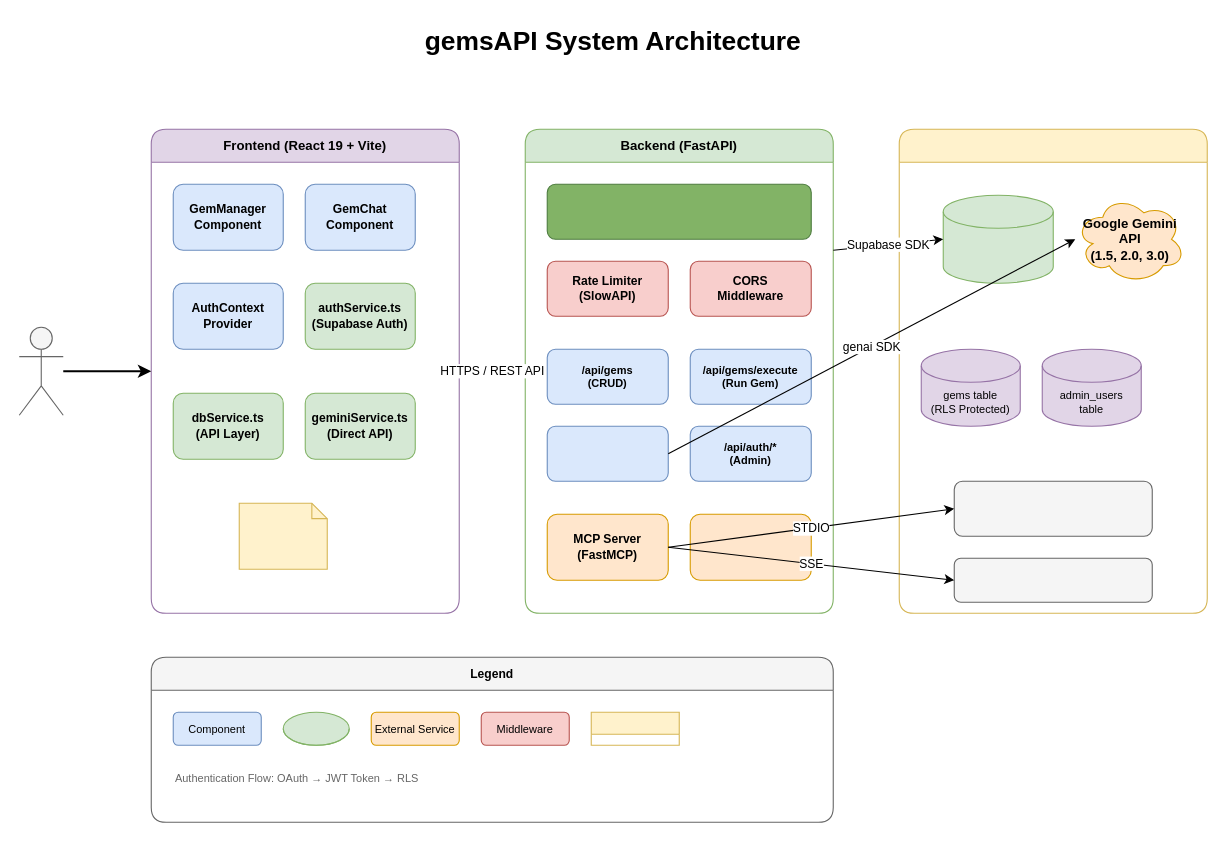
This 1227x842 diagram has some shape labels left out. Each missing label, with the box of its shape:
/api/gemini/generate (Free-form): (546, 425, 668, 481)
Claude Desktop (MCP Client): (953, 480, 1152, 536)
Cursor / IDE (MCP SSE): (953, 557, 1152, 602)
External Services: (898, 128, 1207, 613)
FastAPI Server (Python): (546, 183, 811, 239)
LocalStorage (Demo Mode): (238, 502, 327, 569)
MCP Tools gems.list/get/search: (689, 513, 811, 580)
Service/Database: (282, 711, 349, 745)
Supabase (PostgreSQL): (942, 194, 1053, 283)
System Boundary: (590, 711, 679, 745)
User: (18, 326, 63, 415)
